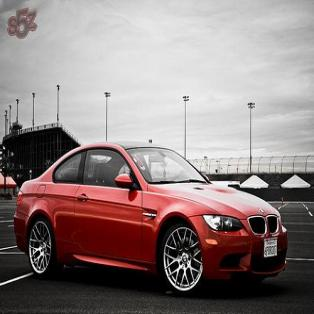Auto: (14, 142, 288, 296)
